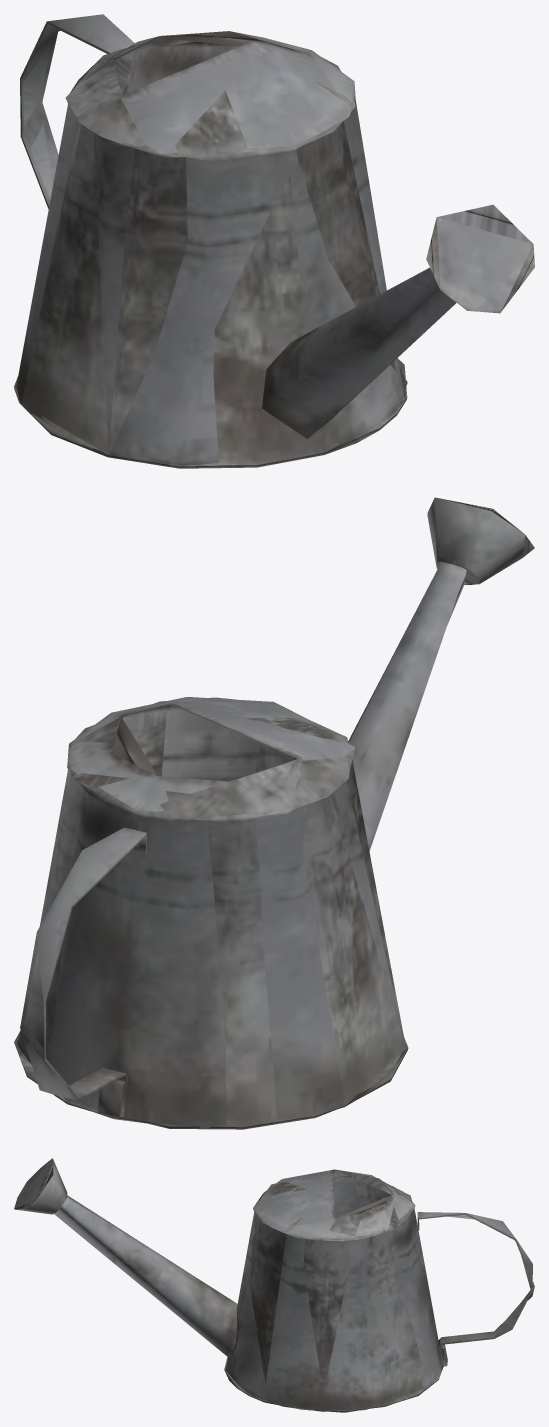
The model's file is watering_can_metal_01.glb.
3 renders of one model, top to bottom at view 1: azimuth 30°, elevation 25°; view 2: azimuth 150°, elevation 25°; view 3: azimuth 270°, elevation 25°, orthographic. The views are drawn at different scales.
Visible parts, largest first — view 1: watering_can_metal_01; view 2: watering_can_metal_01; view 3: watering_can_metal_01.
Part boxes in pixels (x1,y1,x2,y2): watering_can_metal_01: [14, 14, 534, 468]; watering_can_metal_01: [14, 497, 534, 1129]; watering_can_metal_01: [14, 1158, 534, 1412].
Size of the model in its own units: 0.1896 by 0.1922 by 0.4521.
1 material, 1 textured.
